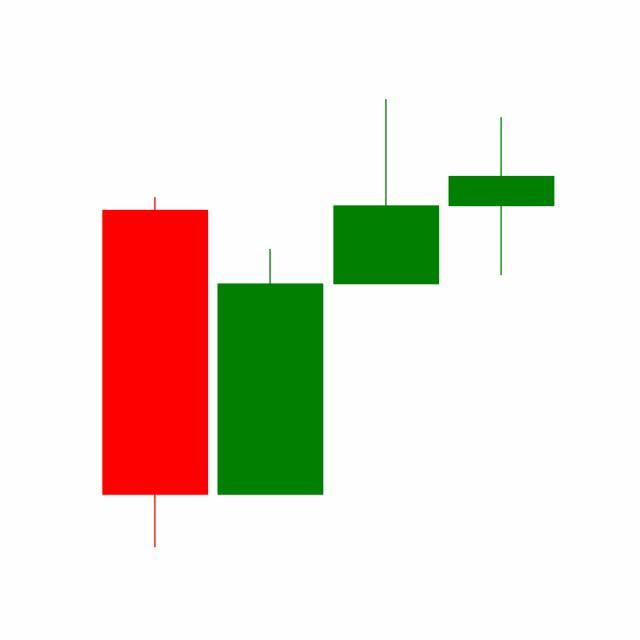Spinning Top: (444, 116, 560, 278)
